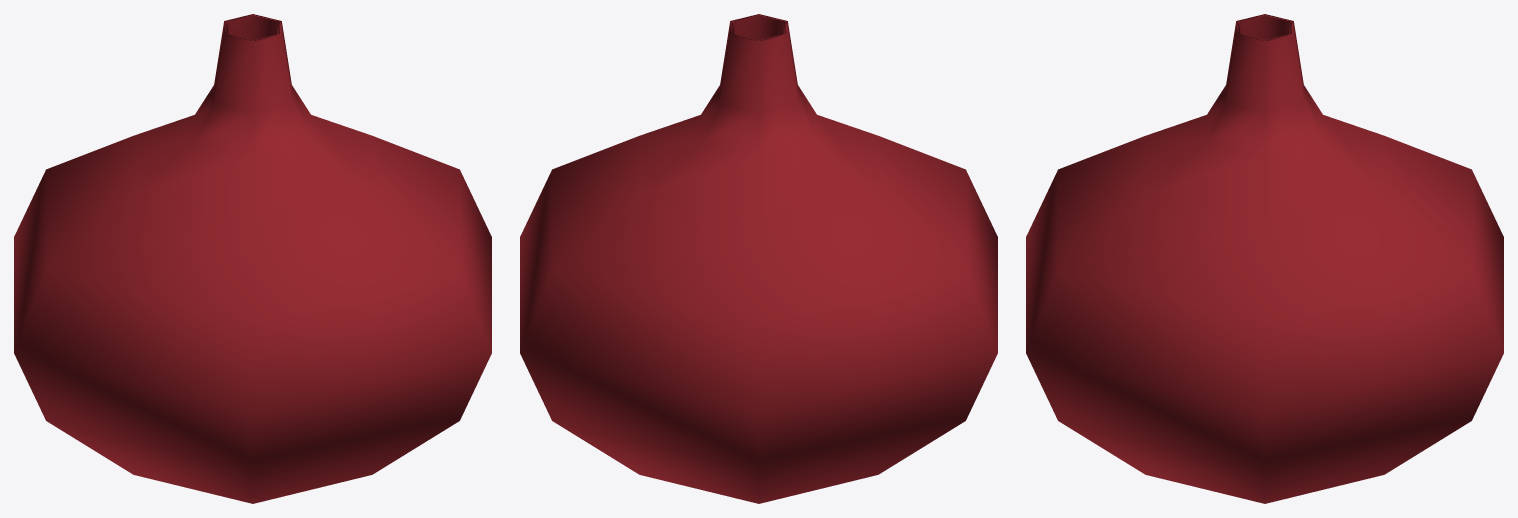
Rendered from vaseA.fbx.
The picture shows the model from 3 angles, left to right: view 1: azimuth 30°, elevation 25°; view 2: azimuth 150°, elevation 25°; view 3: azimuth 270°, elevation 25°; orthographic projection.
Visible parts, largest first — view 1: vaseA; view 2: vaseA; view 3: vaseA.
Part boxes in pixels (box(x1,y1,x2,y2)): vaseA: box(14, 14, 491, 503); vaseA: box(520, 14, 997, 503); vaseA: box(1026, 14, 1503, 503).
Bounding box in the file's own units: 0.2778 × 0.232 × 0.2406.
